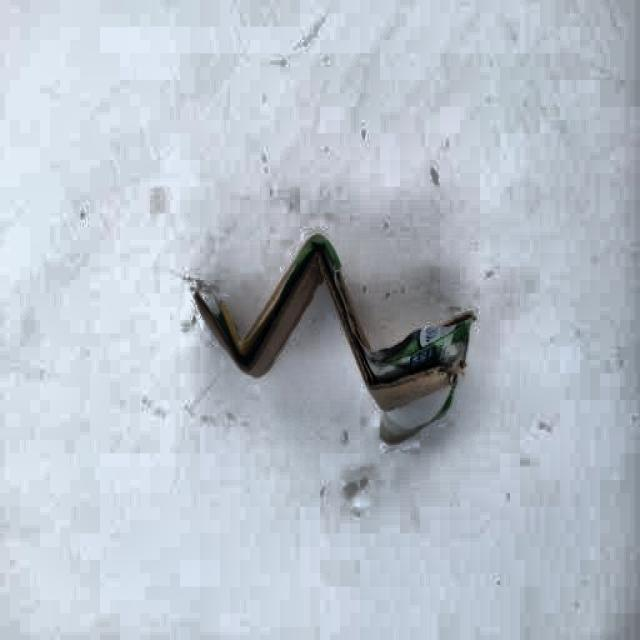cardboard: (192, 232, 476, 420)
